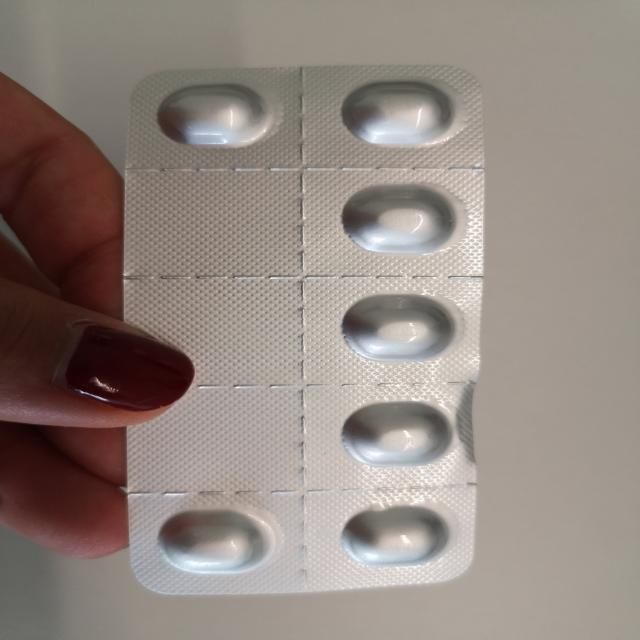Pill: (329, 289, 469, 366), (151, 498, 275, 582), (144, 76, 280, 152), (331, 74, 458, 155), (329, 180, 467, 254), (333, 398, 458, 469), (338, 502, 458, 571)
